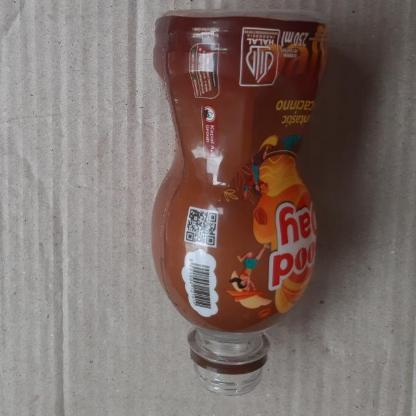Plastic Bottle: (151, 11, 327, 393)
